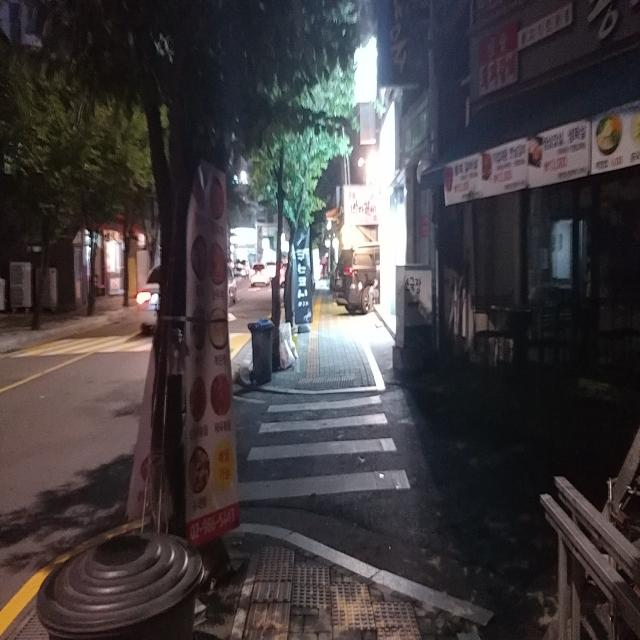횡단보도: (237, 393, 413, 504)
